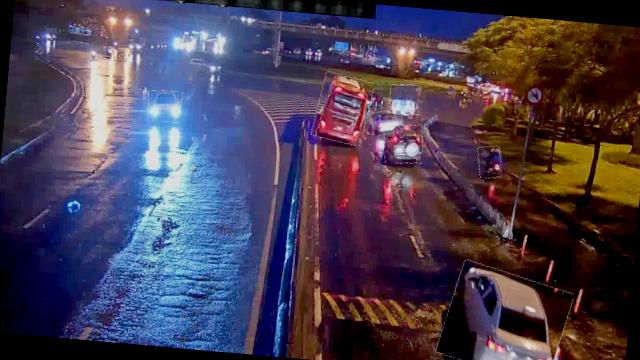Bike: (476, 145, 502, 180)
Bus: (312, 73, 373, 147)
Car: (438, 264, 572, 360), (382, 123, 424, 165), (146, 88, 184, 124), (370, 108, 404, 137)
Truck: (389, 84, 422, 116)
